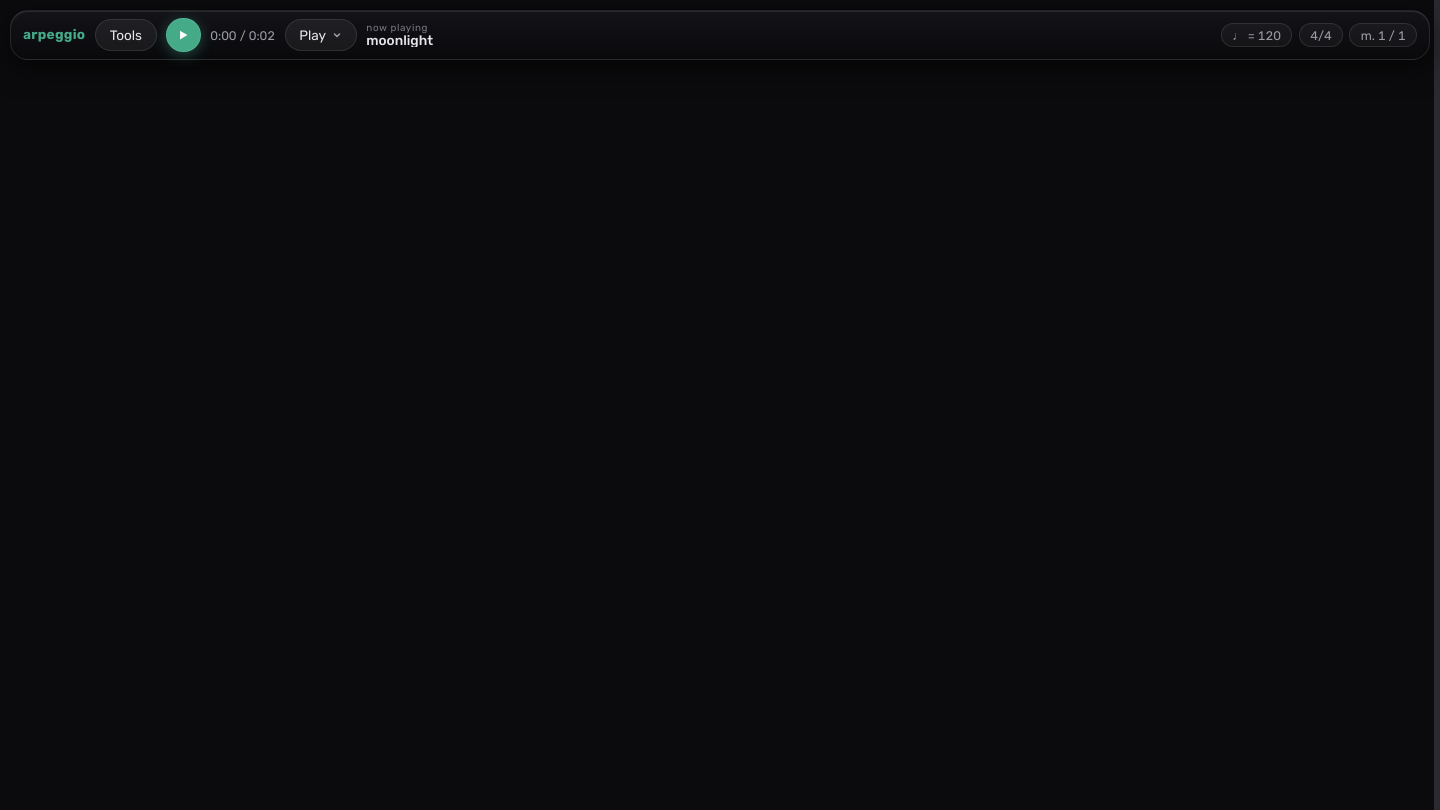
Test: PracticeView › shows the Tools button, and opening it reveals Loop and Metronome sections
The image size is (1440, 810).
// Open the popover.
What coordinates should you click on to do the following:
click the button "Tools"
I would click on:
 (126, 35)
Its box is [95,19,157,51].
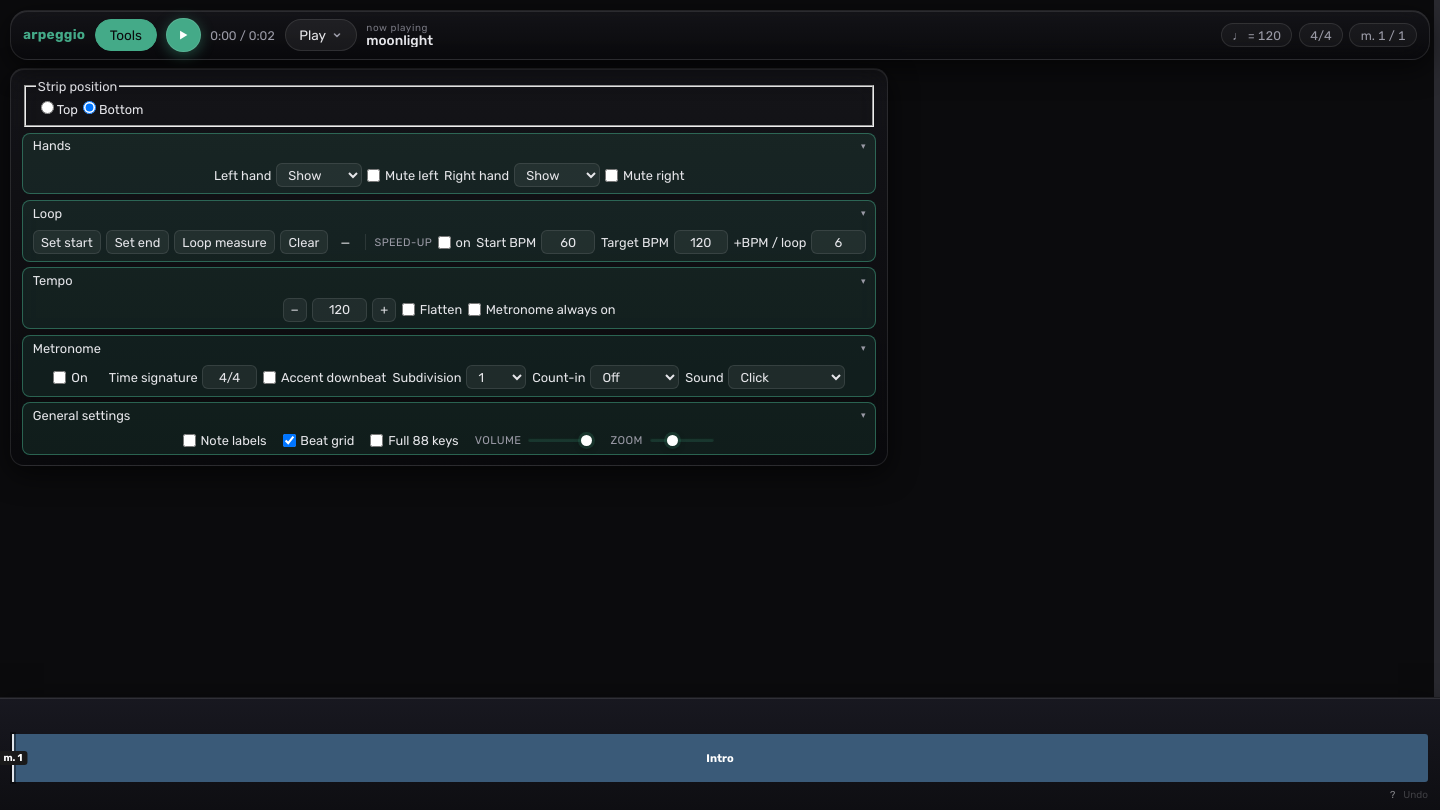
Now the button "Loop ▾" is shown, box [23,201,875,226]
Now the button "Metronome ▾" is shown, box [23,336,875,360]
